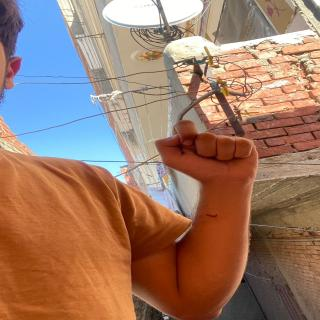FAA: (144, 116, 274, 184)
